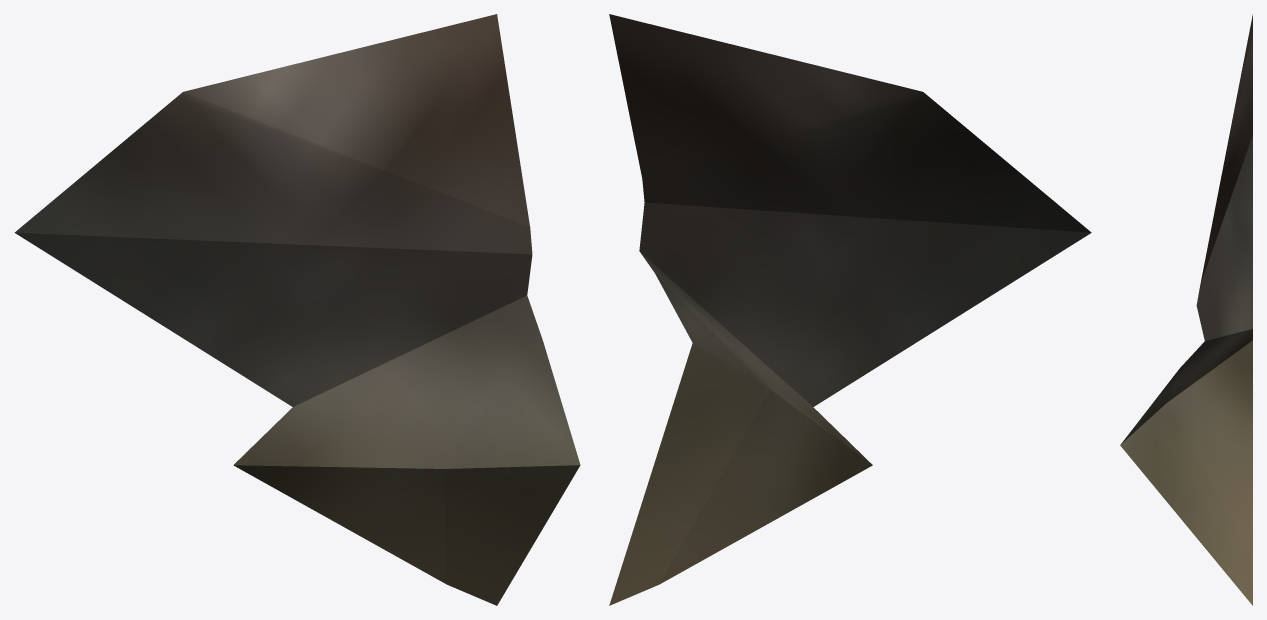
The picture shows the model from 3 angles, left to right: view 1: azimuth 30°, elevation 25°; view 2: azimuth 150°, elevation 25°; view 3: azimuth 270°, elevation 25°; orthographic projection. The views are drawn at different scales.
Bounding box in the file's own units: 0.182 × 0.2133 × 0.0545.
Materials: 1 (1 with a texture image).
